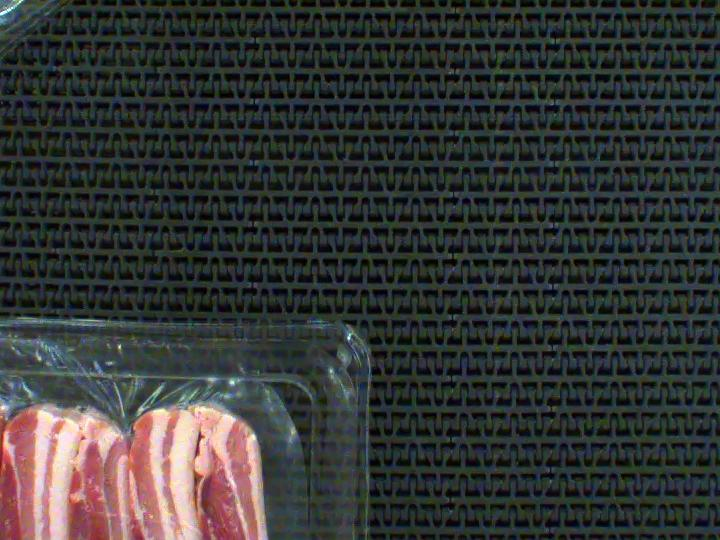unsealed: (0, 341, 338, 540)
